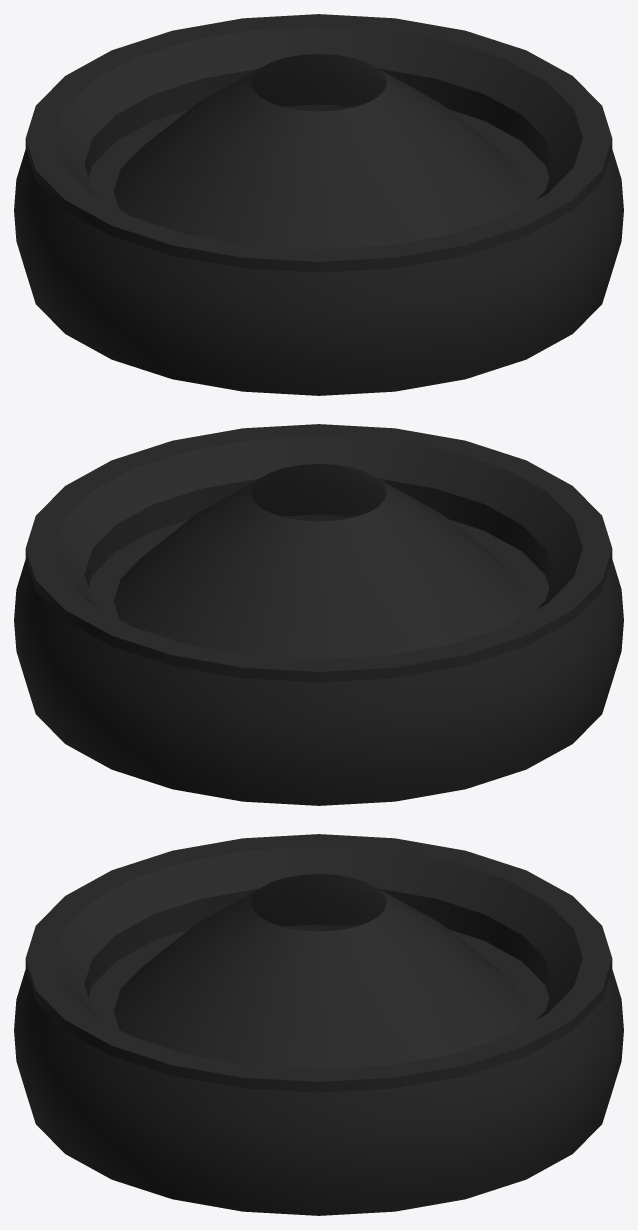
Rendered from Tantares_Port_1.obj.
The picture shows the model from 3 angles, top to bottom: view 1: azimuth 30°, elevation 25°; view 2: azimuth 150°, elevation 25°; view 3: azimuth 270°, elevation 25°; orthographic projection.
Visible parts, largest first — view 1: Tantares_Port_1; view 2: Tantares_Port_1; view 3: Tantares_Port_1.
Part boxes in pixels (x1,y1,x2,y2): Tantares_Port_1: [14, 14, 623, 395]; Tantares_Port_1: [14, 424, 623, 805]; Tantares_Port_1: [14, 834, 623, 1215].
Bounding box in the file's own units: 0.65 × 0.2225 × 0.65.
